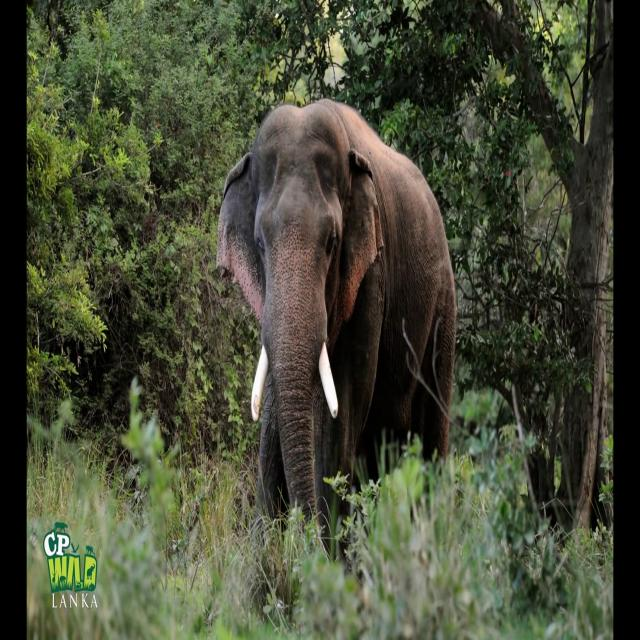Elephant: (216, 97, 457, 570)
